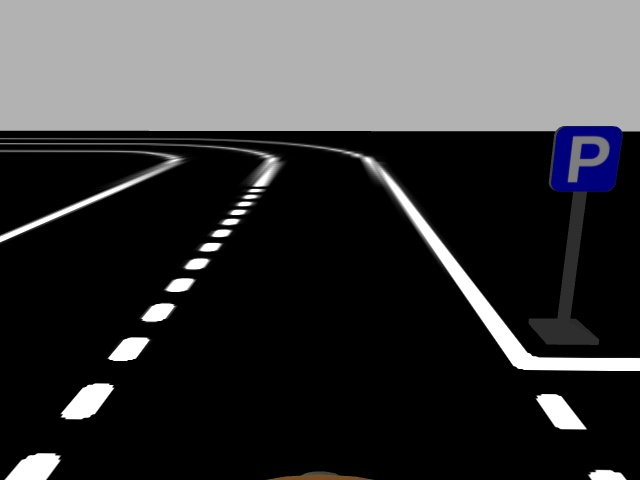parking: (548, 125, 622, 192)
